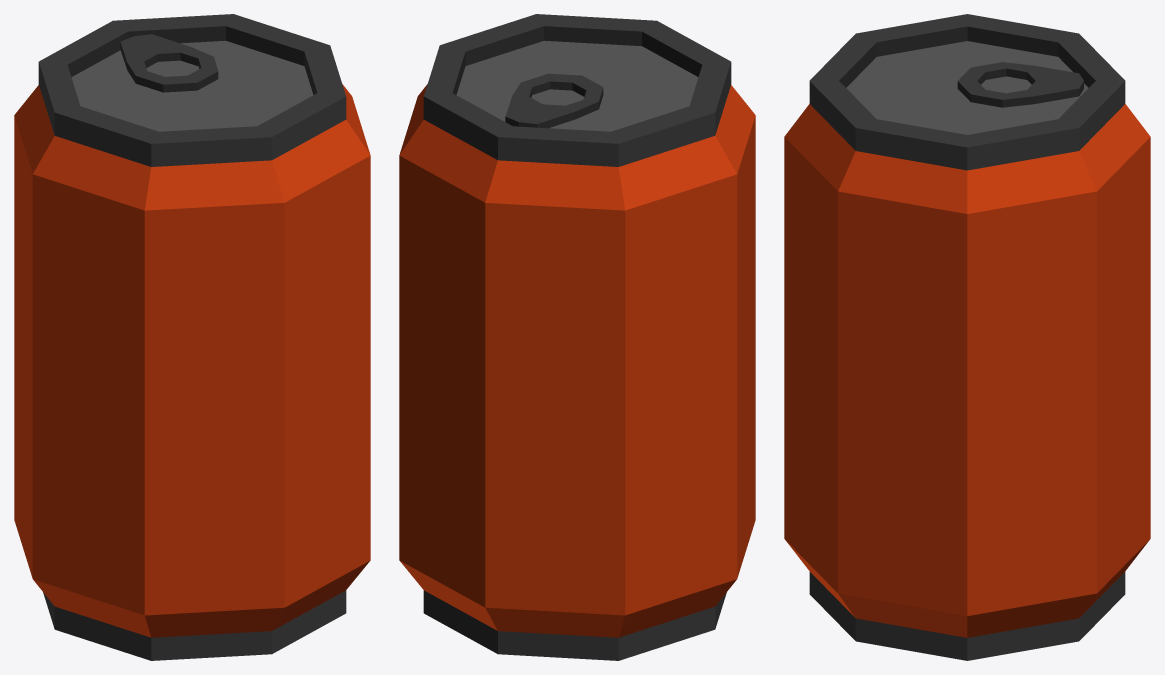
File: SodaCan.fbx
The picture shows the model from 3 angles, left to right: view 1: azimuth 30°, elevation 25°; view 2: azimuth 150°, elevation 25°; view 3: azimuth 270°, elevation 25°; orthographic projection.
Parts seen in each view (by area): view 1: Soda; view 2: Soda; view 3: Soda.
Boxes of the visible parts, x1,y1,x2,y2 form: Soda: (14,14,370,660); Soda: (399,14,755,660); Soda: (784,14,1150,660).
Bounding box in the file's own units: 88.93 × 88.93 × 138.
